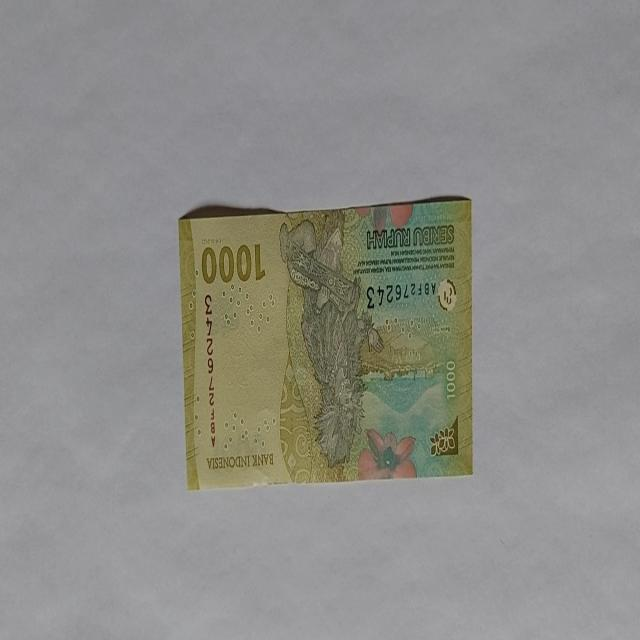seribu rupiah kertas: (178, 196, 473, 490)
